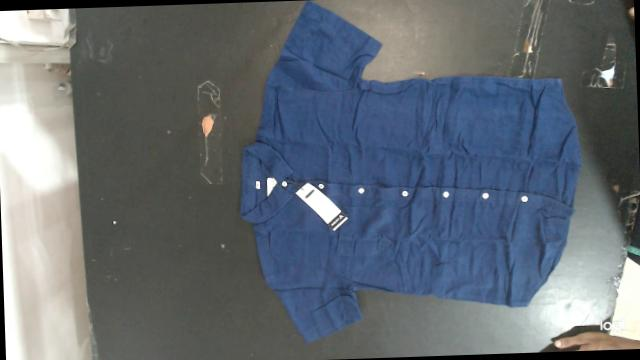new-garment: (240, 1, 581, 342)
